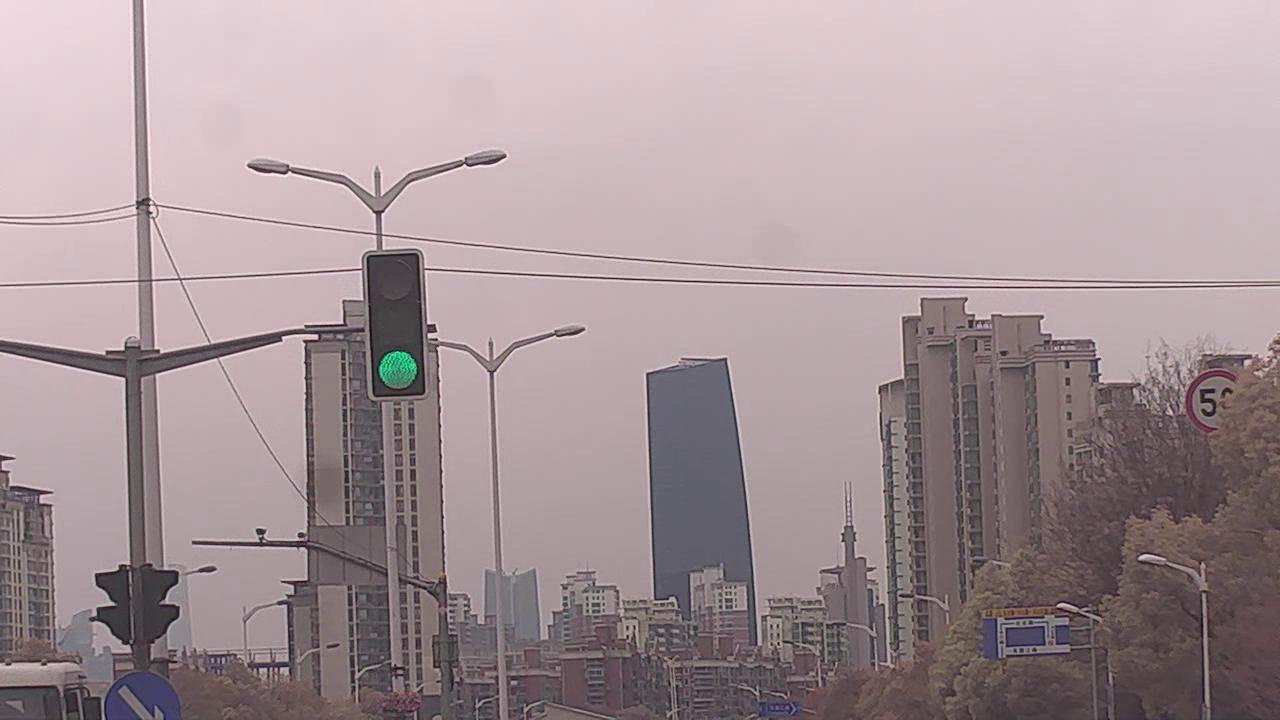traffic_light: (364, 253, 437, 402)
